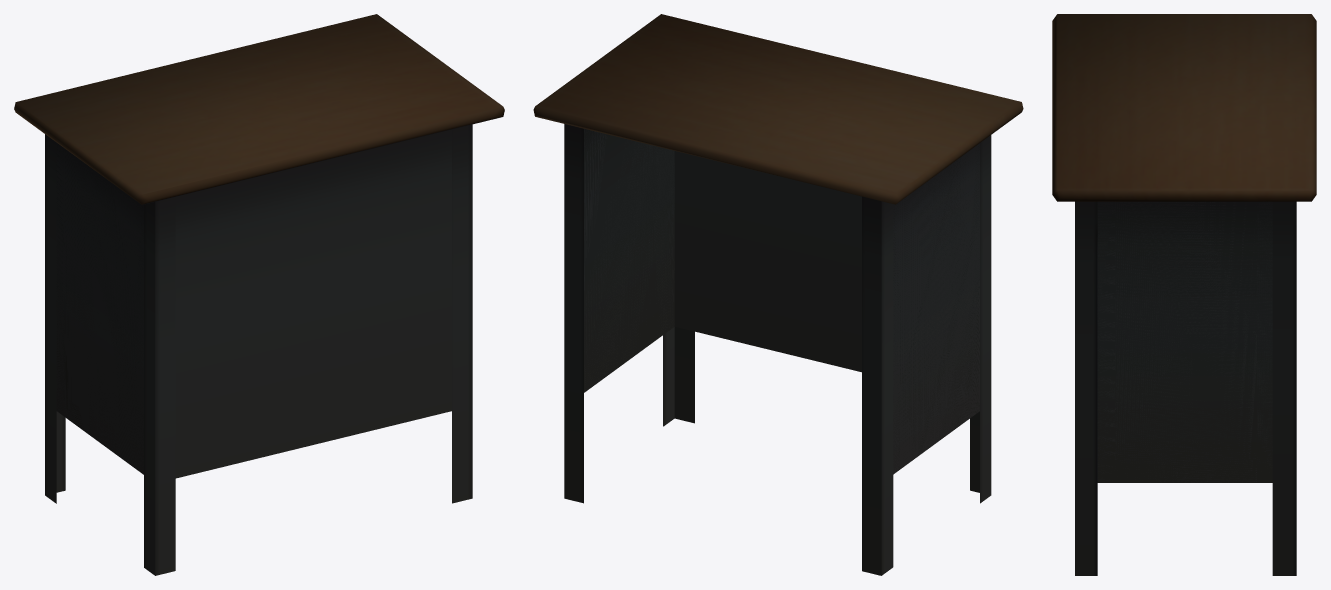
Rendered from TeacherDesk_type00_nig.FBX.
3 views of the same model, side by side, from view 1: azimuth 30°, elevation 25°; view 2: azimuth 150°, elevation 25°; view 3: azimuth 270°, elevation 25° (orthographic).
Parts seen in each view (by area): view 1: crm_platform_nig; view 2: crm_platform_nig; view 3: crm_platform_nig.
Part boxes in pixels (box(x1,y1,x2,y2)): crm_platform_nig: box(14, 14, 504, 575); crm_platform_nig: box(533, 14, 1023, 575); crm_platform_nig: box(1052, 14, 1316, 575).
Size of the model in its own units: 105 by 108 by 65.3.
